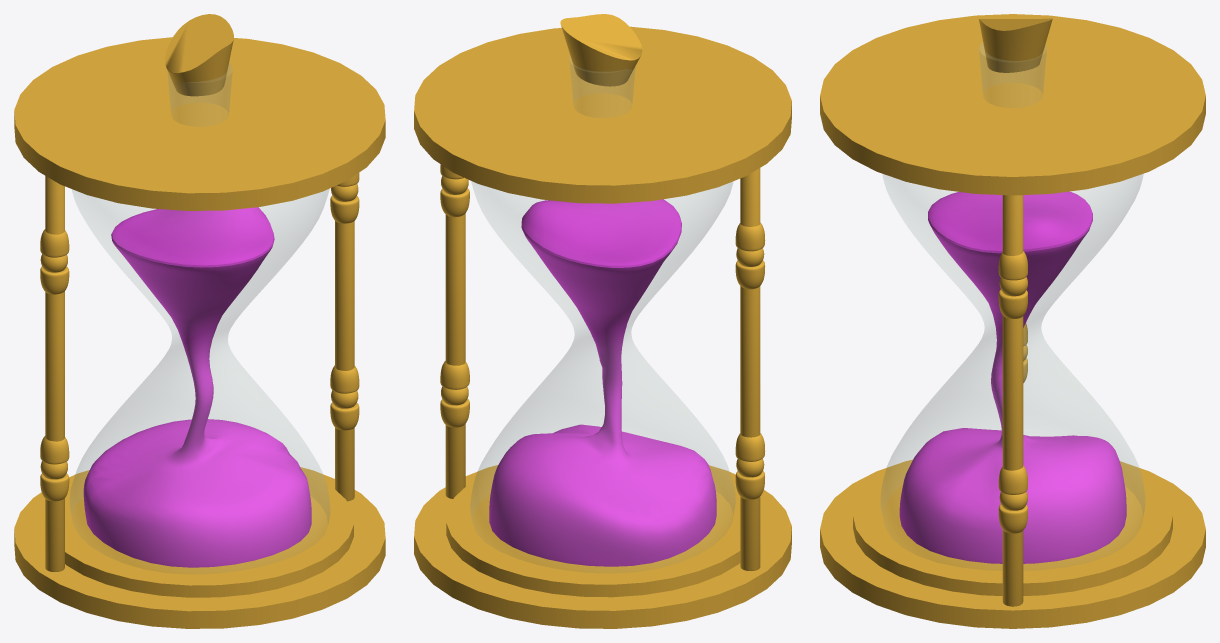
Rendered from hourglass.fbx.
3 views of the same model, side by side, from view 1: azimuth 30°, elevation 25°; view 2: azimuth 150°, elevation 25°; view 3: azimuth 270°, elevation 25° (orthographic). The views are drawn at different scales.
Parts seen in each view (by area): view 1: Cube; view 2: Cube; view 3: Cube.
Part boxes in pixels (left/top/right/bottom): Cube: left=14, top=14, right=385, bottom=628; Cube: left=414, top=14, right=791, bottom=628; Cube: left=820, top=14, right=1205, bottom=628.
Size of the model in its own units: 235 by 362 by 235.
